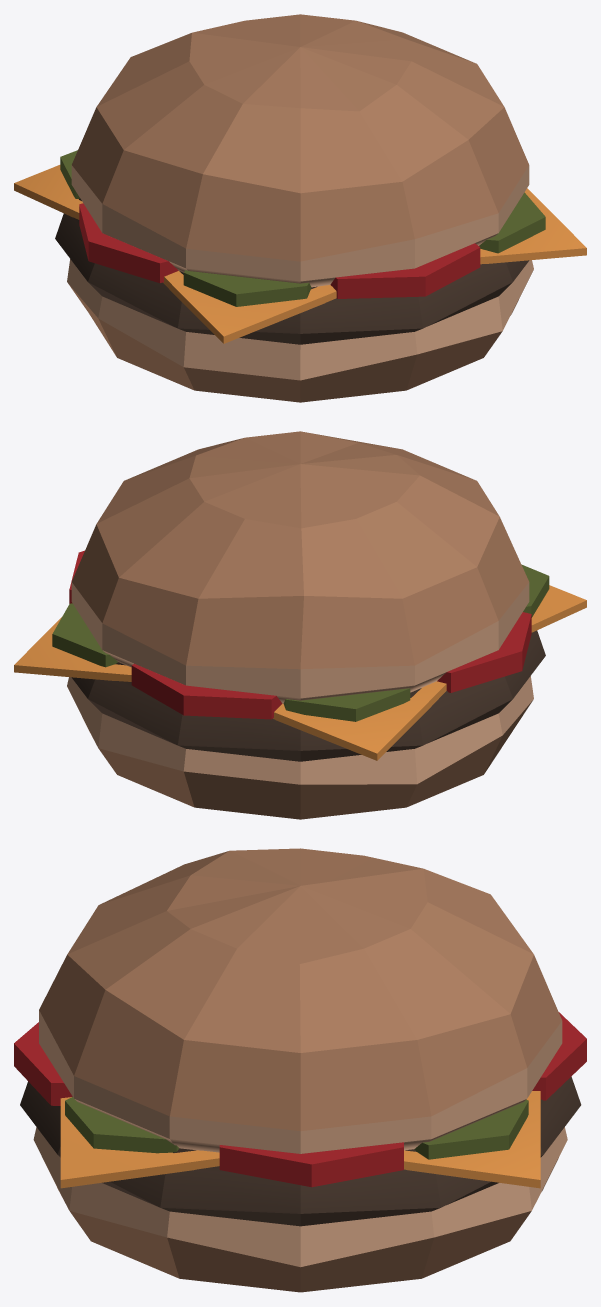
Rendered from Burger.fbx.
3 renders of one model, top to bottom at view 1: azimuth 30°, elevation 25°; view 2: azimuth 150°, elevation 25°; view 3: azimuth 270°, elevation 25°, orthographic. The views are drawn at different scales.
Visible parts, largest first — view 1: SM_Prop_LargeSign_Burger_01; view 2: SM_Prop_LargeSign_Burger_01; view 3: SM_Prop_LargeSign_Burger_01.
Part boxes in pixels (x1,y1,x2,y2): SM_Prop_LargeSign_Burger_01: (14,14,586,402); SM_Prop_LargeSign_Burger_01: (14,431,586,819); SM_Prop_LargeSign_Burger_01: (14,848,586,1292).
Size of the model in its own units: 433 by 254 by 434.
1 material, 1 textured.
